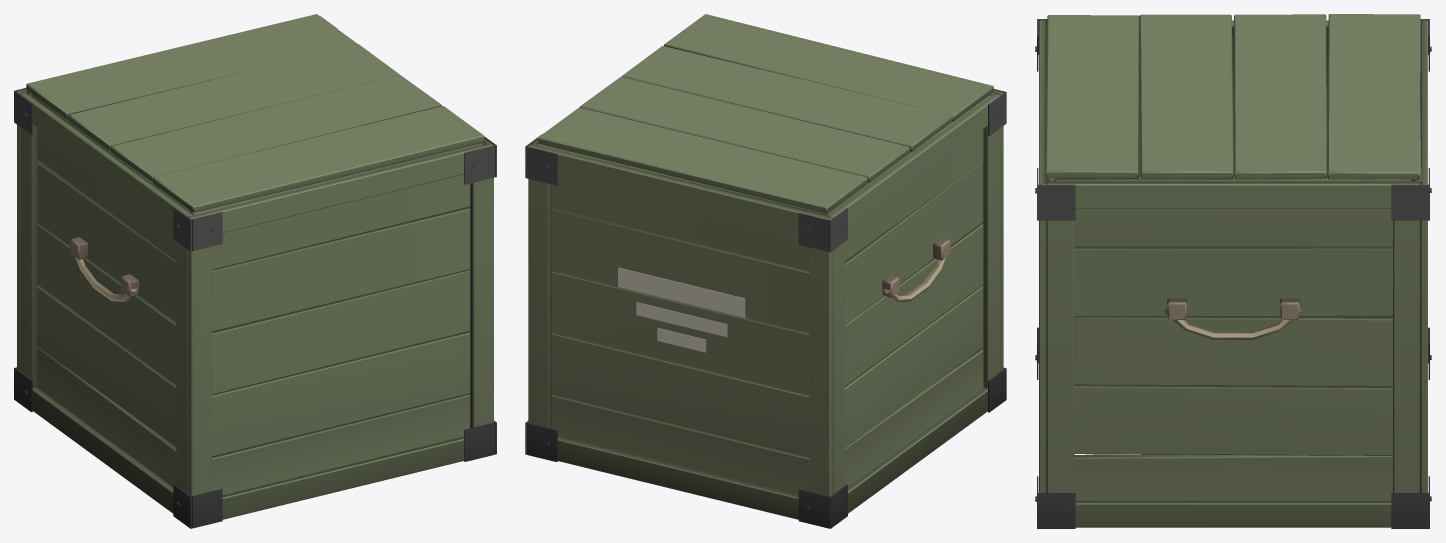
The model's file is crate_army.glb.
3 views of the same model, side by side, from view 1: azimuth 30°, elevation 25°; view 2: azimuth 150°, elevation 25°; view 3: azimuth 270°, elevation 25° (orthographic). The views are drawn at different scales.
Parts seen in each view (by area): view 1: static; view 2: static; view 3: static.
Boxes of the visible parts, x1,y1,x2,y2 form: static: (14,14,496,528); static: (525,14,1006,528); static: (1035,14,1431,528).
Bounding box in the file's own units: 1.03 × 1 × 1.02.
